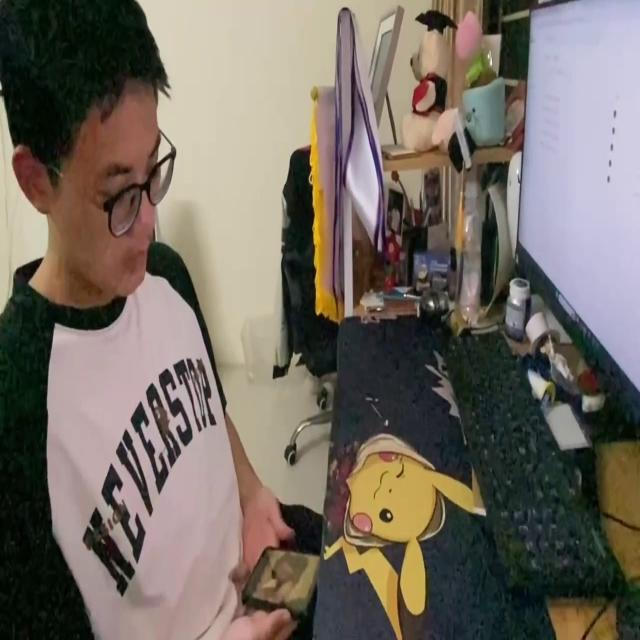laptop: (517, 0, 640, 443)
phone: (238, 541, 318, 620)
student: (1, 1, 300, 640)
